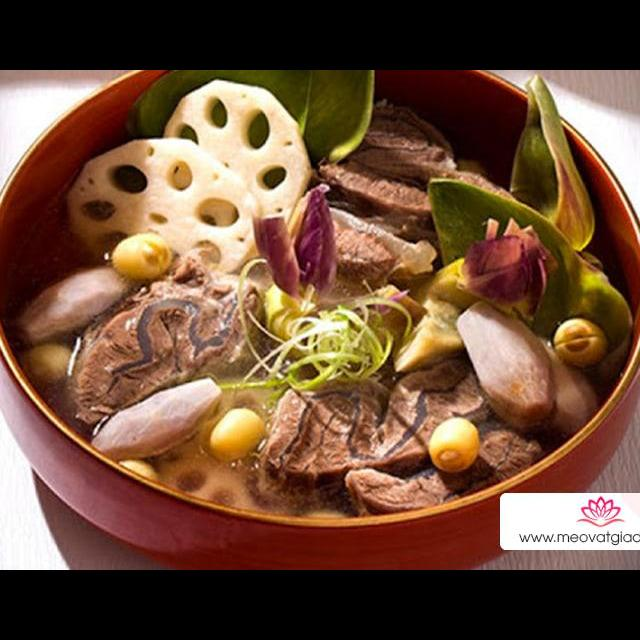thit bo: (252, 332, 497, 509), (65, 250, 276, 432), (305, 92, 522, 220), (343, 409, 549, 524)
